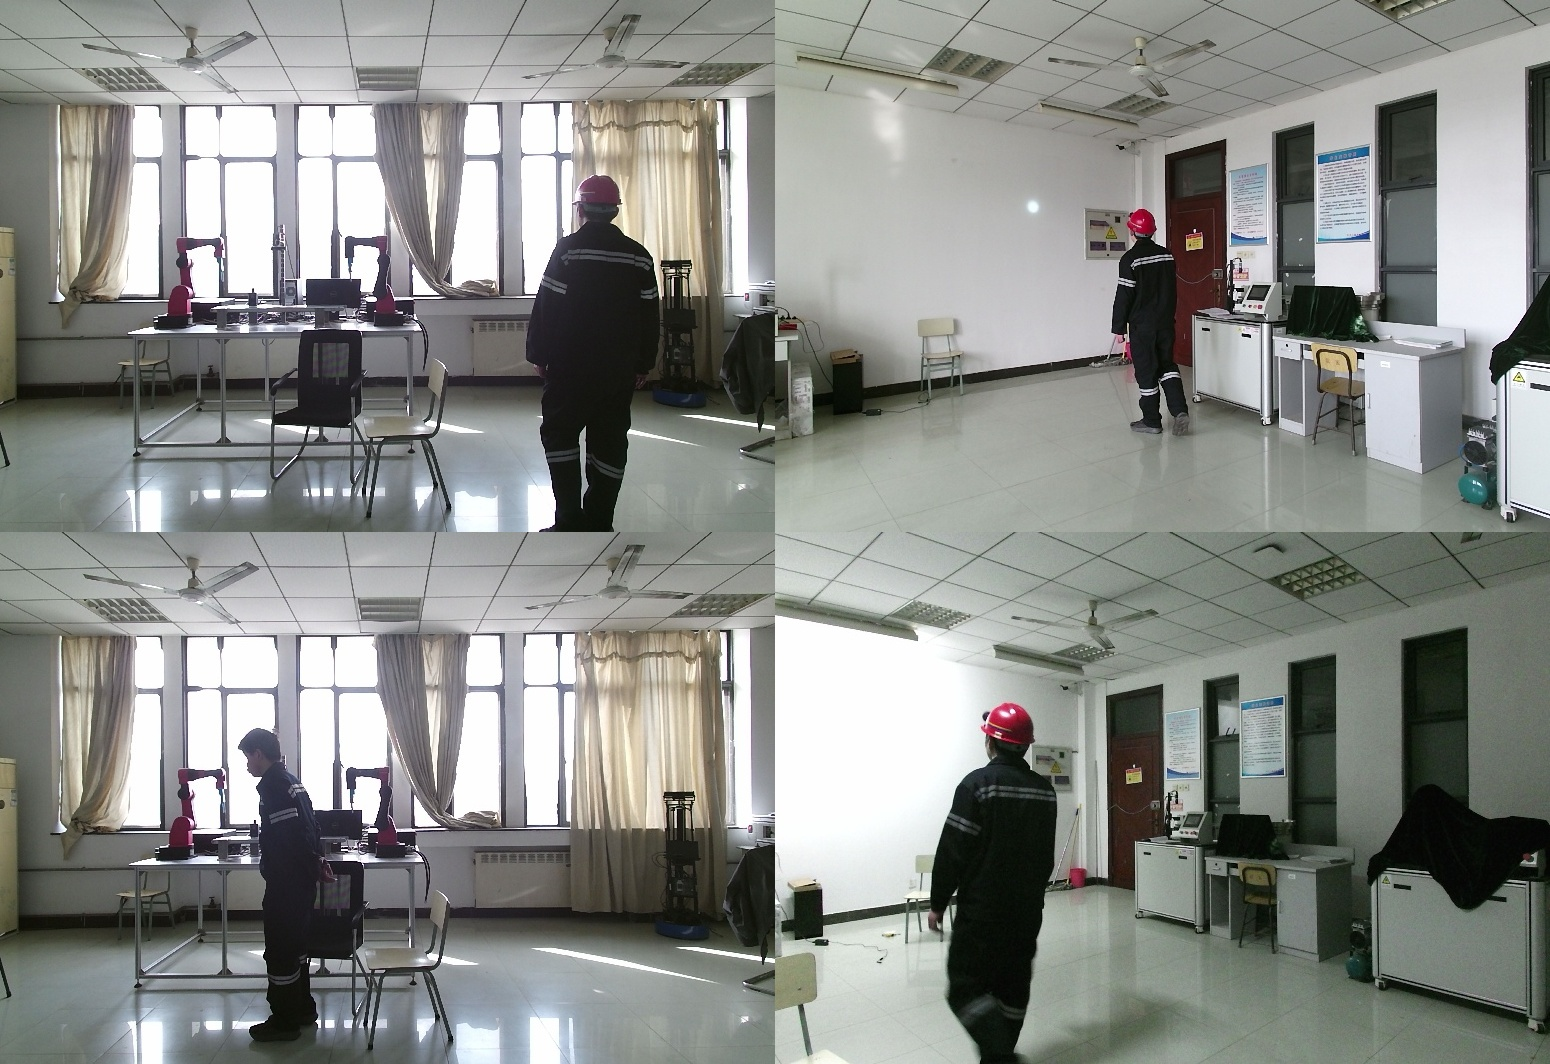person: (930, 699, 1079, 1064), (532, 174, 677, 532), (238, 728, 336, 1039), (1113, 210, 1197, 444)
